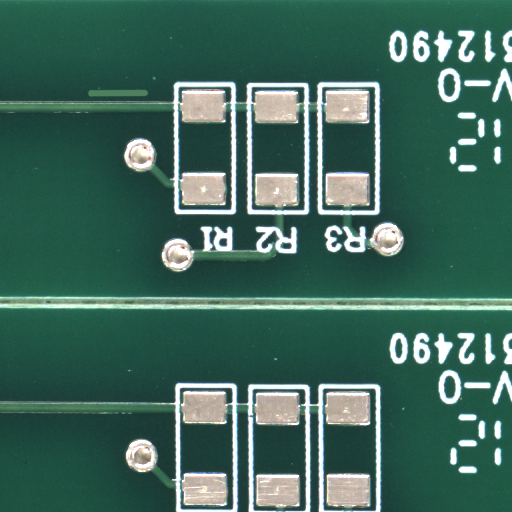Spurious_copper: (118, 92, 179, 103)
